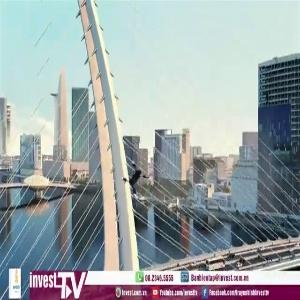drone: (117, 157, 163, 203)
